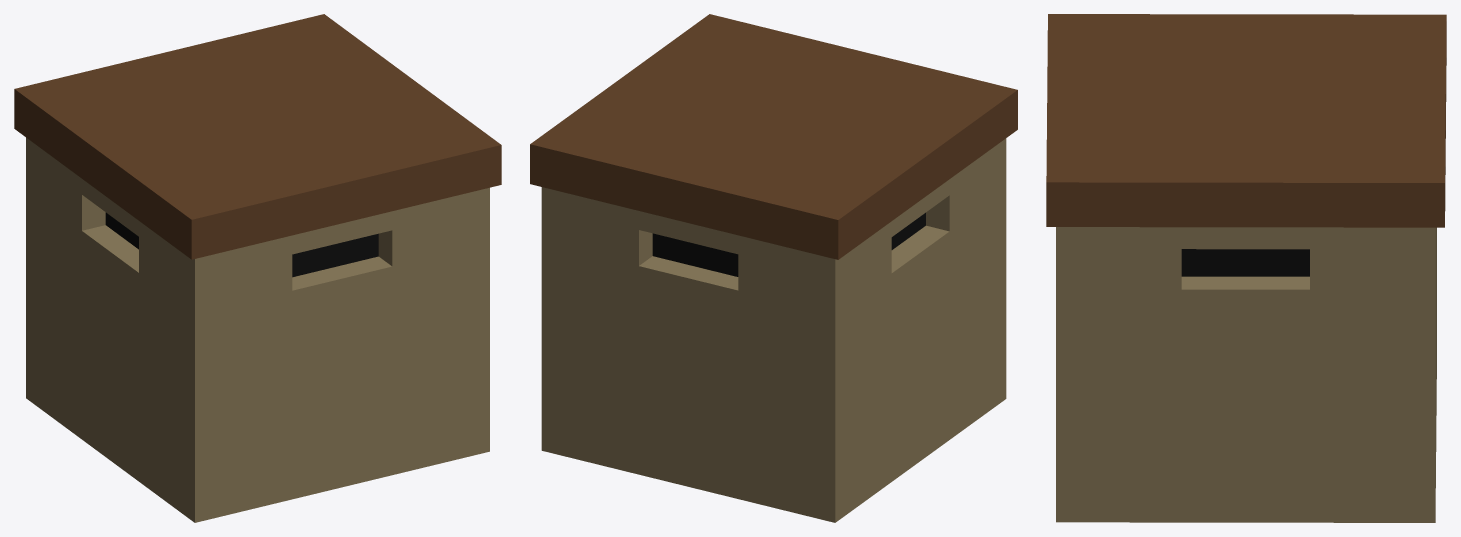
3 renders of one model, left to right at view 1: azimuth 30°, elevation 25°; view 2: azimuth 150°, elevation 25°; view 3: azimuth 270°, elevation 25°, orthographic. The views are drawn at different scales.
Visible parts, largest first — view 1: box; view 2: box; view 3: box.
Boxes of the visible parts, x1=… form: box: x1=14, y1=14, x2=501, y2=522; box: x1=530, y1=14, x2=1017, y2=522; box: x1=1046, y1=14, x2=1446, y2=522.
Size of the model in its own units: 25.11 by 23.82 by 25.11.
